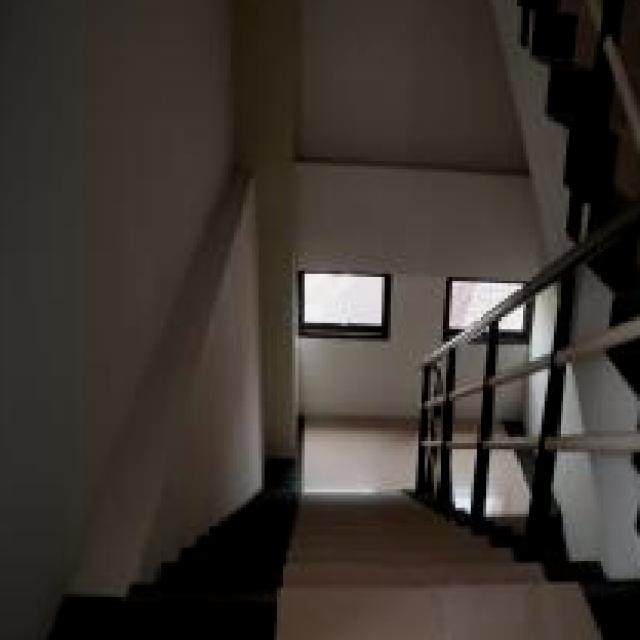downstair: (257, 484, 463, 640)
